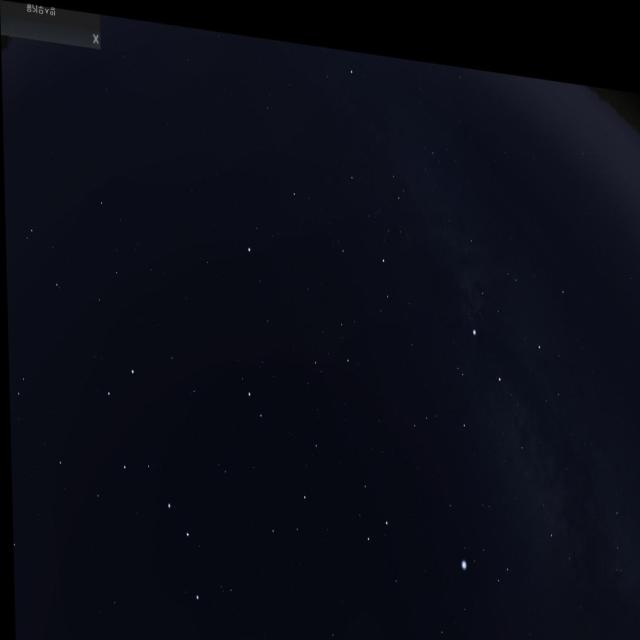cygnus: (443, 300, 566, 523)
lyra: (446, 506, 516, 596)
ursa_major: (104, 354, 215, 609)
